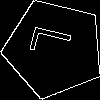L: (29, 24, 82, 62)
